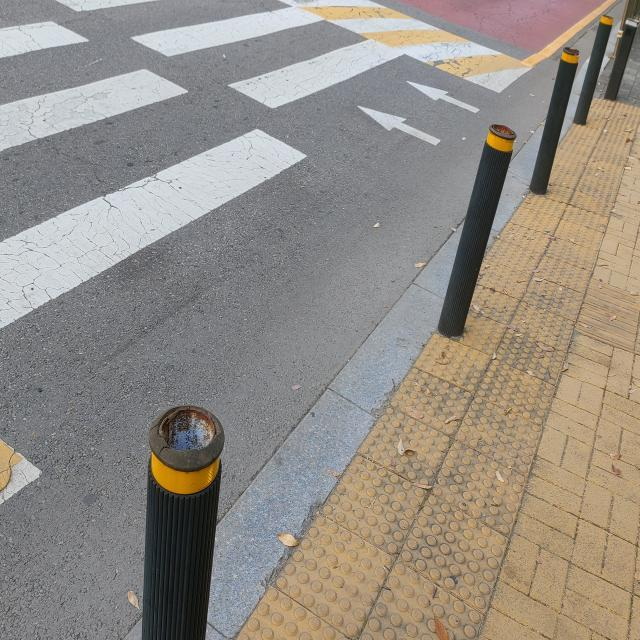pole: (140, 408, 224, 638), (440, 120, 517, 342)
